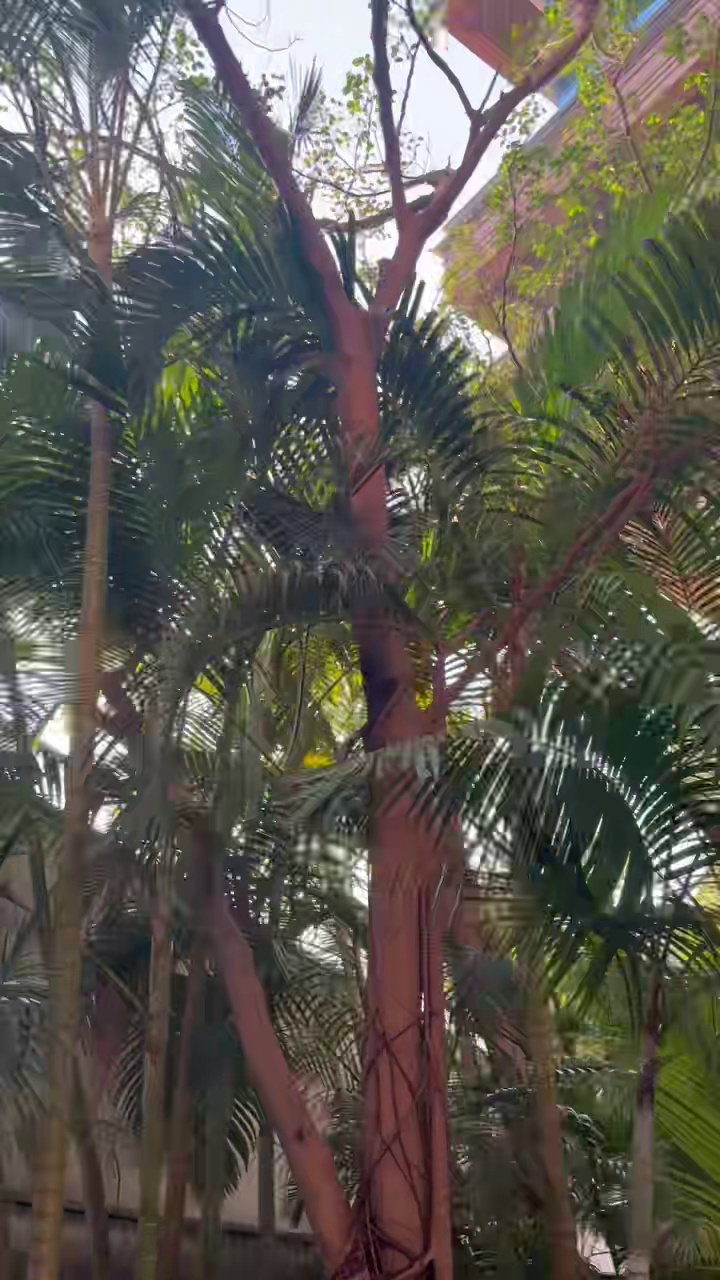Ficus benjamina: (190, 0, 598, 1279)
